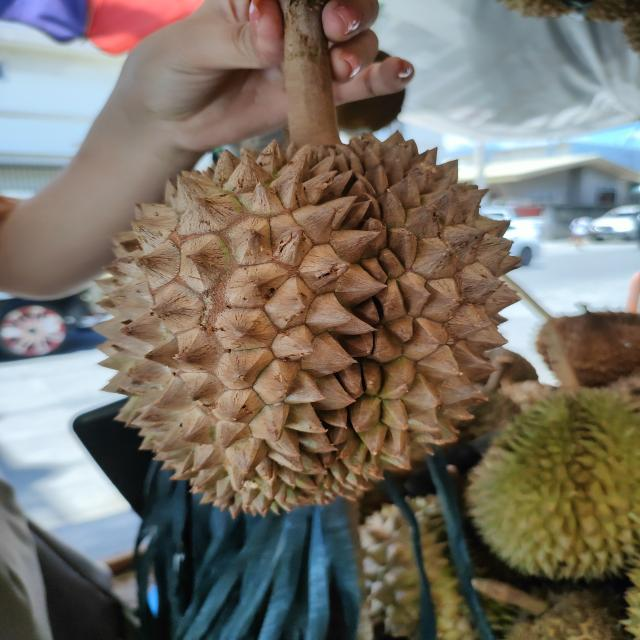mature: (87, 132, 524, 518)
